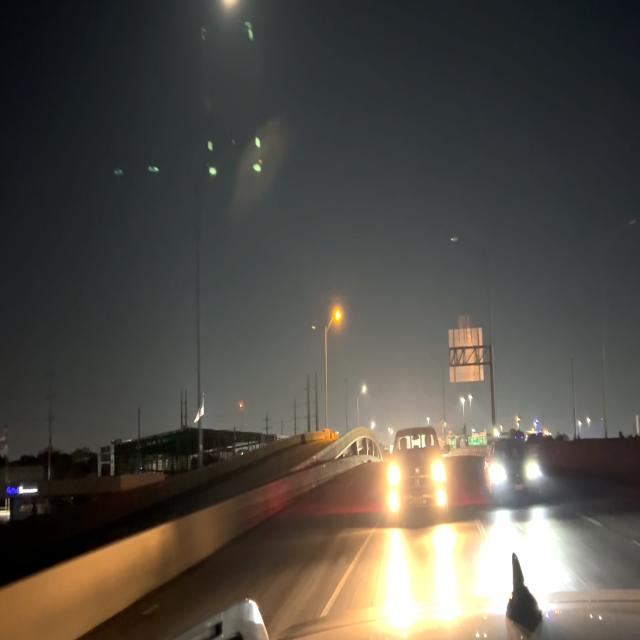back-of-sign: (449, 314, 485, 384)
